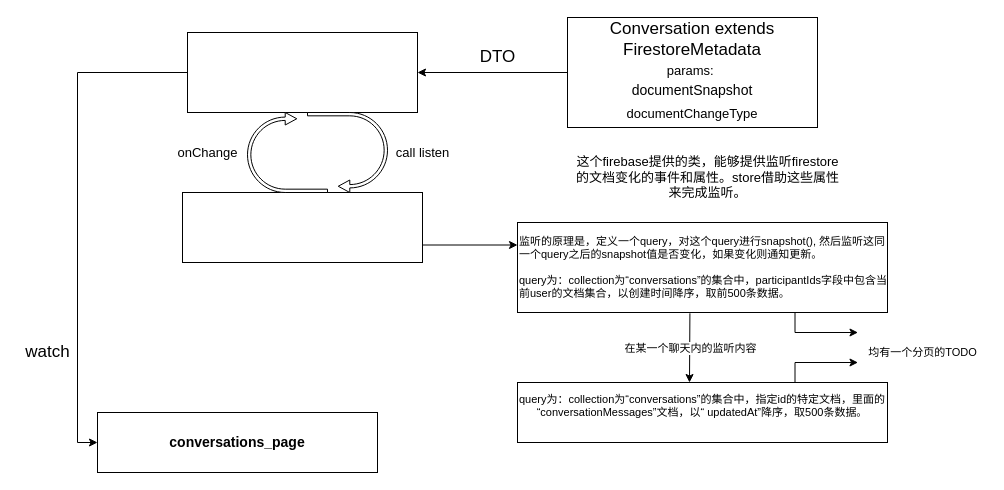
Image size: 1004x490. Some labels were removed from this diagram. Each missing label, with the centre of its shape:
"conversations_store: (conversations_store.dart) c onversation" goes at pixel 302 72.
"firestore_conversations_service.dart function: listenToDocumentsStream" goes at pixel 302 227.
